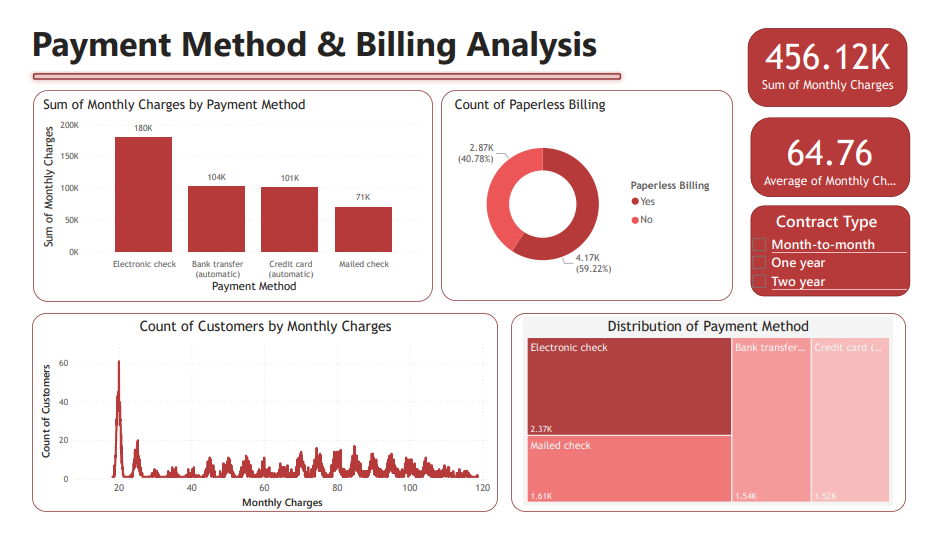

The dashboard page shown, as its layout file describes it:
{"tool":"powerbi","page":{"name":"Payment","canvas":[1280,720],"ordinal":1},"visuals":[{"type":"shape","box":[1036.7,266.7,225,128.3],"z":0},{"type":"shape","box":[1036.7,143.3,225,111.7],"z":500},{"type":"shape","box":[18.3,73.3,843.3,25],"z":2000},{"type":"shape","box":[1033.3,16.7,225,111.7],"z":3000},{"type":"textbox","box":[18.3,0,830,76.7],"z":4000},{"type":"shape","box":[18.3,411.7,668.3,293.3],"z":5000},{"type":"shape","box":[693.3,411.7,568.3,293.3],"z":6000},{"type":"shape","box":[595,98.3,423.3,310],"z":7000},{"type":"shape","box":[18.8,98.8,576.2,310],"z":8000},{"type":"donutChart","title":"Count of Paperless Billing","fields":{"Category":["Cleaned_Vis.Paperless Billing"],"Y":["CountNonNull(Cleaned_Vis.Paperless Billing)"]},"box":[615,113.3,383.3,281.7],"z":10000},{"type":"lineChart","title":"Count of Customers by Monthly Charges","fields":{"Category":["Cleaned_Vis.Monthly Charges"],"Y":["CountNonNull(Cleaned_Vis.CustomerID)"]},"box":[30,421.7,645,280],"z":11000},{"type":"slicer","title":"Contract Type","fields":{"Values":["Cleaned_Vis.Contract"]},"box":[1026.7,273.3,235,135],"z":12000},{"type":"card","fields":{"Values":["Sum(Cleaned_Vis.Monthly Charges)"]},"box":[1045,0,201.7,128.3],"z":13000},{"type":"card","fields":{"Values":["Avg(Cleaned_Vis.Monthly Charges)"]},"box":[1048.3,143.3,201.7,111.7],"z":14000},{"type":"treemap","title":"Distribution of Payment Method","fields":{"Group":["Cleaned_Vis.Payment Method"],"Values":["CountNonNull(Cleaned_Vis.Payment Method)"]},"box":[716.7,425,521.7,265],"z":15000},{"type":"columnChart","fields":{"Category":["Cleaned_Vis.Payment Method"],"Y":["Sum(Cleaned_Vis.Monthly Charges)"]},"box":[35,113.3,545,281.7],"z":16000}]}

Visuals, with their boxes in screenshot pixels (x1, y1, x2, y2), scaled from the page's 1280x720 canvas onto the 938x542 screenshot:
shape: crop(760, 201, 925, 297)
shape: crop(760, 108, 925, 192)
shape: crop(13, 55, 631, 74)
shape: crop(757, 13, 922, 97)
textbox: crop(13, 0, 622, 58)
shape: crop(13, 310, 503, 531)
shape: crop(508, 310, 925, 531)
shape: crop(436, 74, 746, 307)
shape: crop(14, 74, 436, 308)
"Count of Paperless Billing" donutChart: crop(451, 85, 732, 297)
"Count of Customers by Monthly Charges" lineChart: crop(22, 317, 495, 528)
"Contract Type" slicer: crop(752, 206, 925, 307)
card - Sum(Cleaned_Vis.Monthly Charges): crop(766, 0, 914, 97)
card - Avg(Cleaned_Vis.Monthly Charges): crop(768, 108, 916, 192)
"Distribution of Payment Method" treemap: crop(525, 320, 908, 519)
columnChart - Cleaned_Vis.Payment Method x Sum(Cleaned_Vis.Monthly Charges): crop(26, 85, 425, 297)
